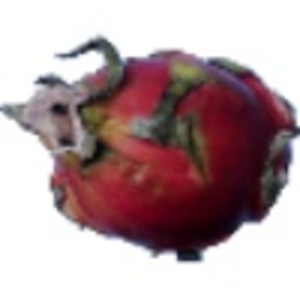pitaia: (1, 35, 300, 265)
